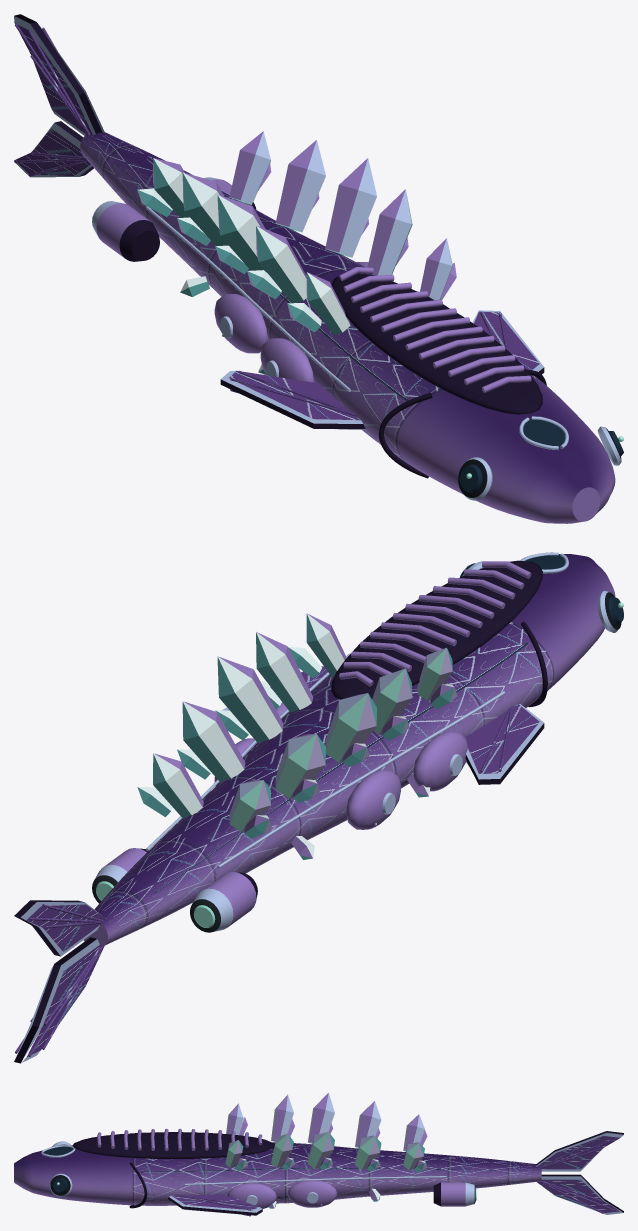
The picture shows the model from 3 angles, top to bottom: view 1: azimuth 30°, elevation 25°; view 2: azimuth 150°, elevation 25°; view 3: azimuth 270°, elevation 25°; orthographic projection. The views are drawn at different scales.
Parts seen in each view (by area): view 1: remora_hull; view 2: remora_hull; view 3: remora_hull.
Boxes of the visible parts, x1=… form: remora_hull: x1=14, y1=14, x2=623, y2=523; remora_hull: x1=14, y1=552, x2=623, y2=1063; remora_hull: x1=14, y1=1093, x2=623, y2=1216.
Size of the model in its own units: 18.16 by 11.81 by 64.
Materials: 1 (1 with a texture image).
